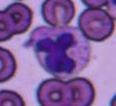N: (32, 25, 90, 76)
